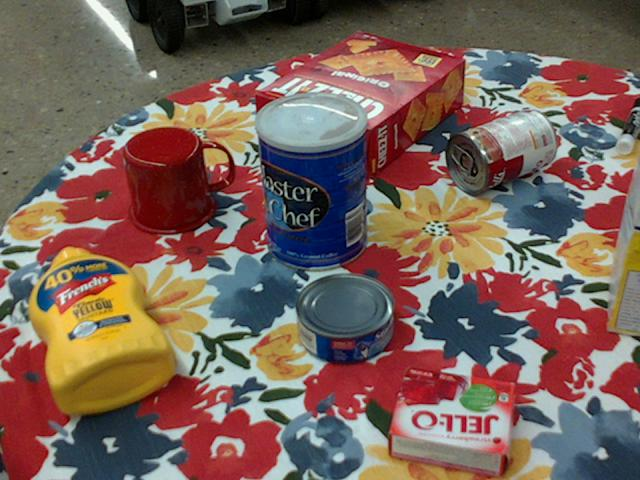cracker_box: (257, 33, 467, 178)
gelatin_box: (390, 368, 521, 478)
large_marker: (615, 98, 639, 153)
master_chef_can: (254, 91, 367, 270)
mug: (123, 126, 232, 235)
mustard_bottle: (29, 247, 175, 413)
sugar_box: (608, 151, 639, 336)
tomato_soup_can: (446, 107, 557, 194)
tuna_fish_can: (295, 274, 395, 365)
